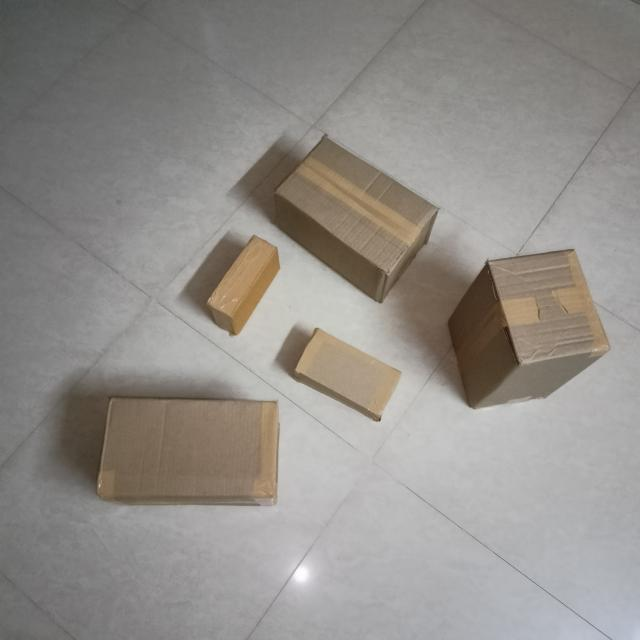box: (281, 136, 433, 272), (99, 400, 280, 500), (493, 257, 610, 362), (296, 329, 407, 418), (212, 234, 279, 313)
